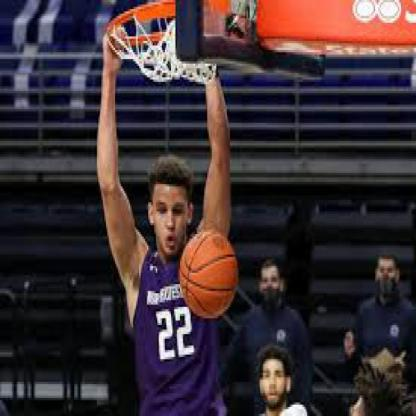basketball: (180, 232, 239, 320)
rim: (107, 2, 188, 50)
